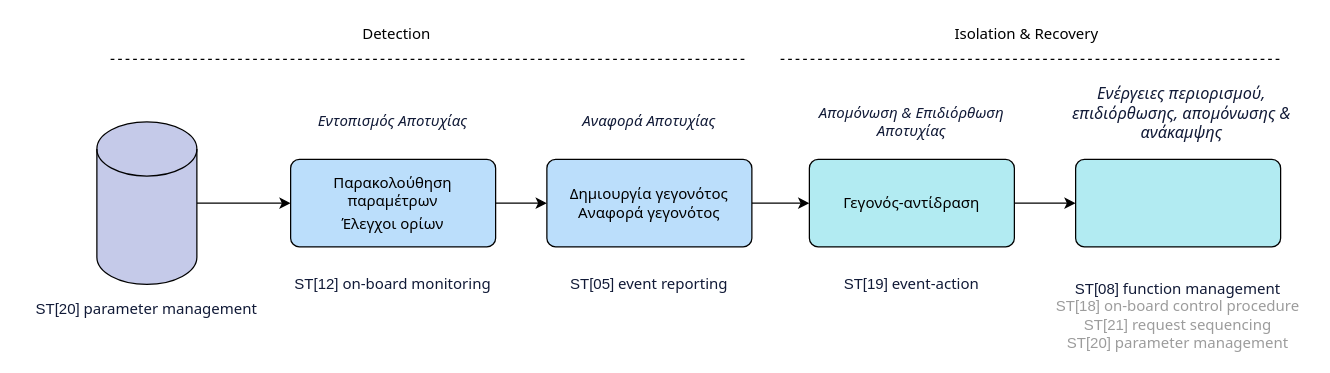
Image size: 1330x373. Some labels were removed from this diagram. Each missing label, with the centre of its shape:
Διαδικασίες Έτοιμες συναρτήσεις Αλλαγή παραμέτρων: [1177,202]
Παράμετροι: [146,202]
